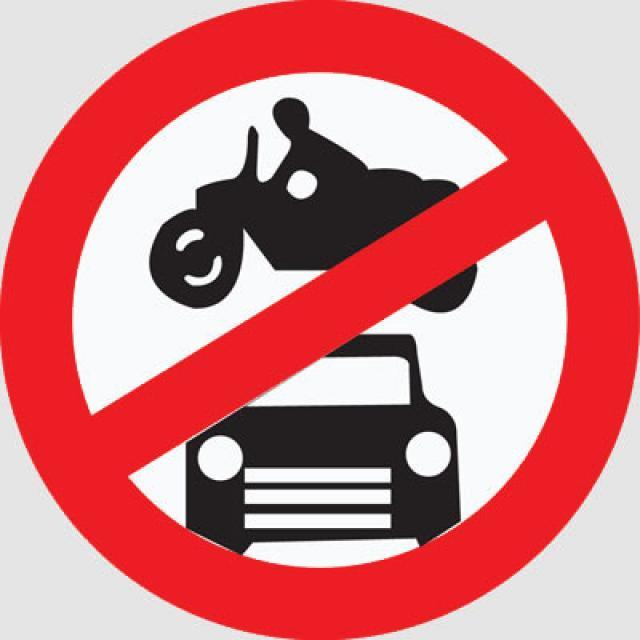all motor vehicle prohibited: (13, 15, 622, 621)
